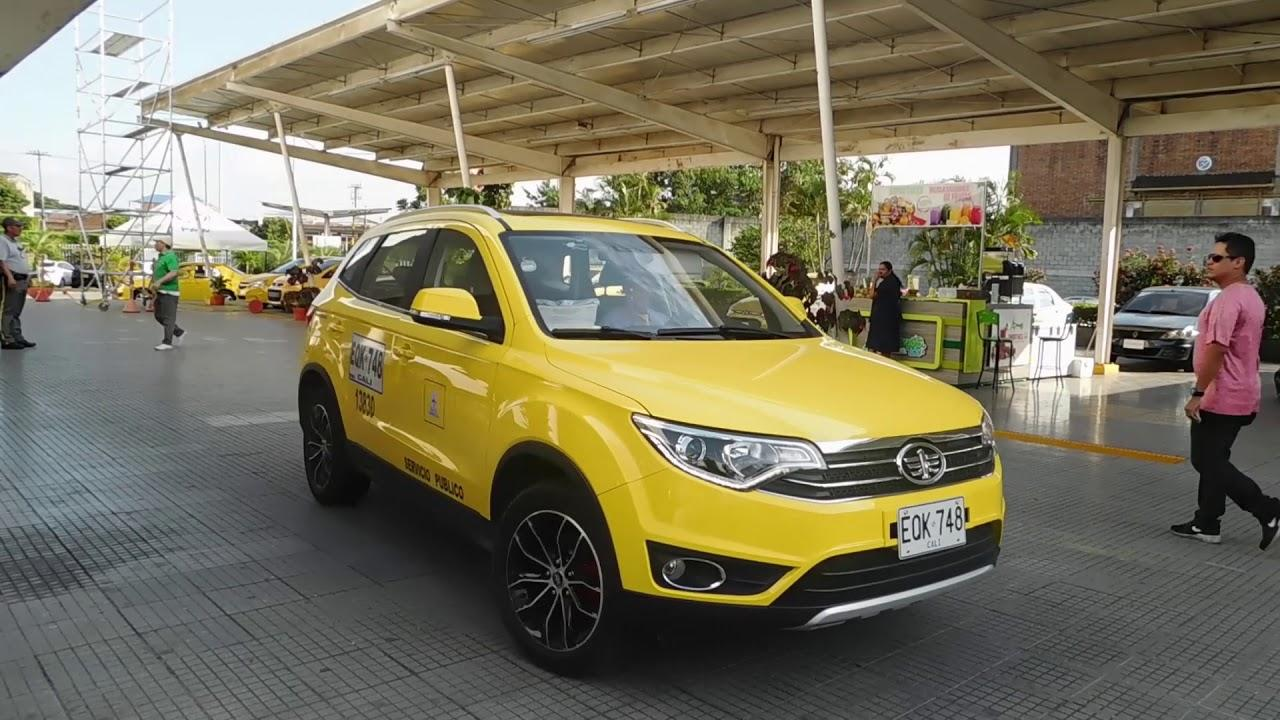taxi: (228, 212, 1004, 659)
